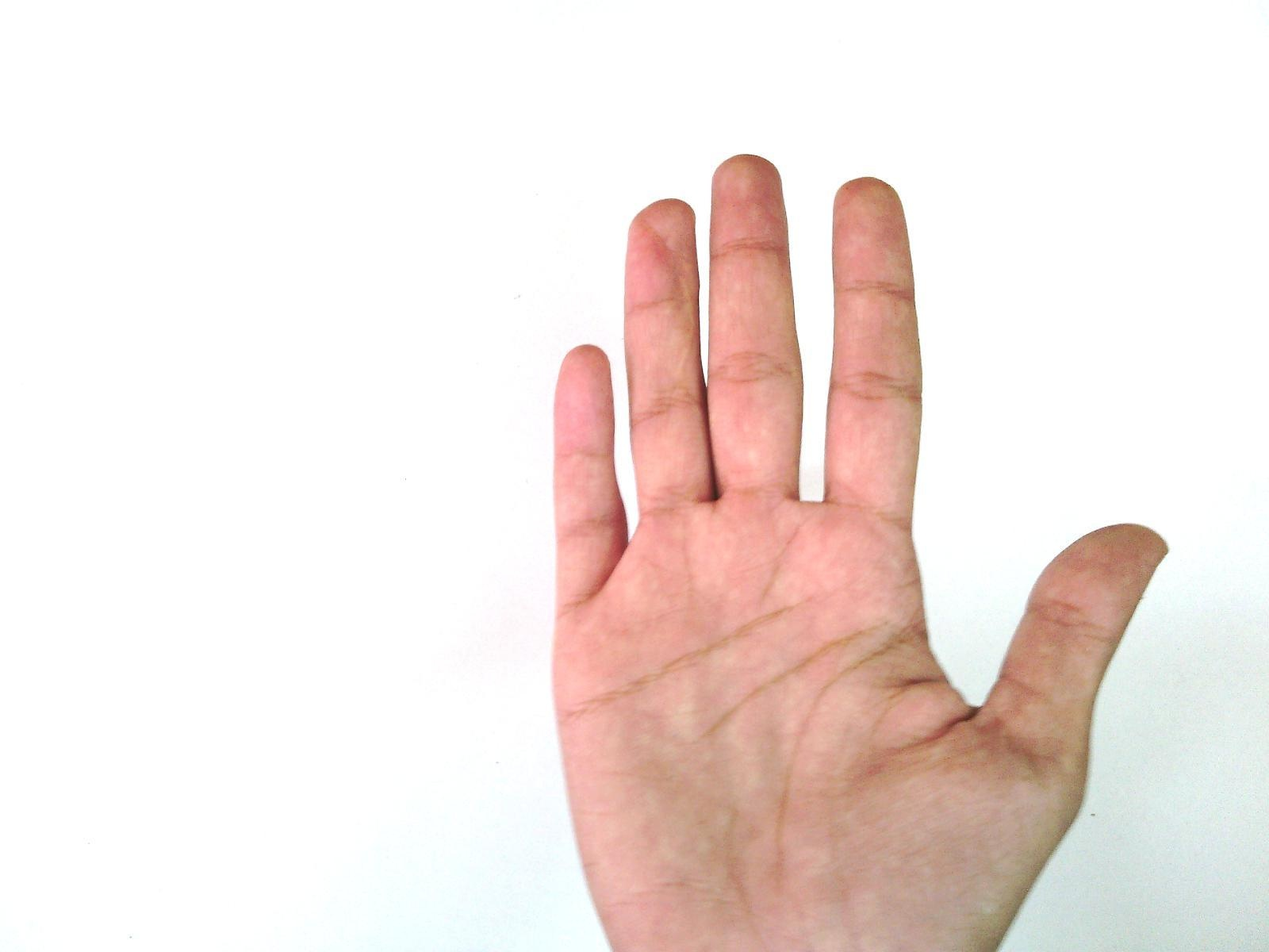open_palm: (546, 153, 1171, 951)
